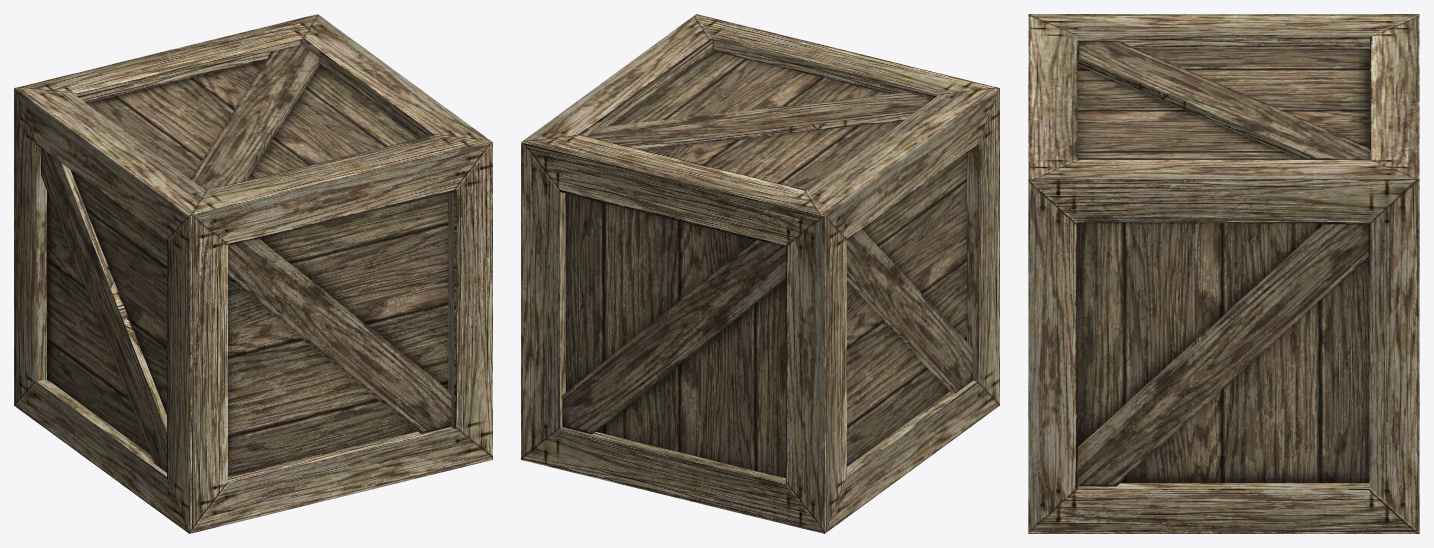
The picture shows the model from 3 angles, left to right: view 1: azimuth 30°, elevation 25°; view 2: azimuth 150°, elevation 25°; view 3: azimuth 270°, elevation 25°; orthographic projection. The views are drawn at different scales.
Parts seen in each view (by area): view 1: Mesh9; view 2: Mesh9; view 3: Mesh9.
Part boxes in pixels (x1,y1,x2,y2): Mesh9: [14, 14, 492, 533]; Mesh9: [521, 14, 999, 533]; Mesh9: [1028, 14, 1419, 533].
Size of the model in its own units: 2 by 2 by 2.
1 material, 1 textured.
